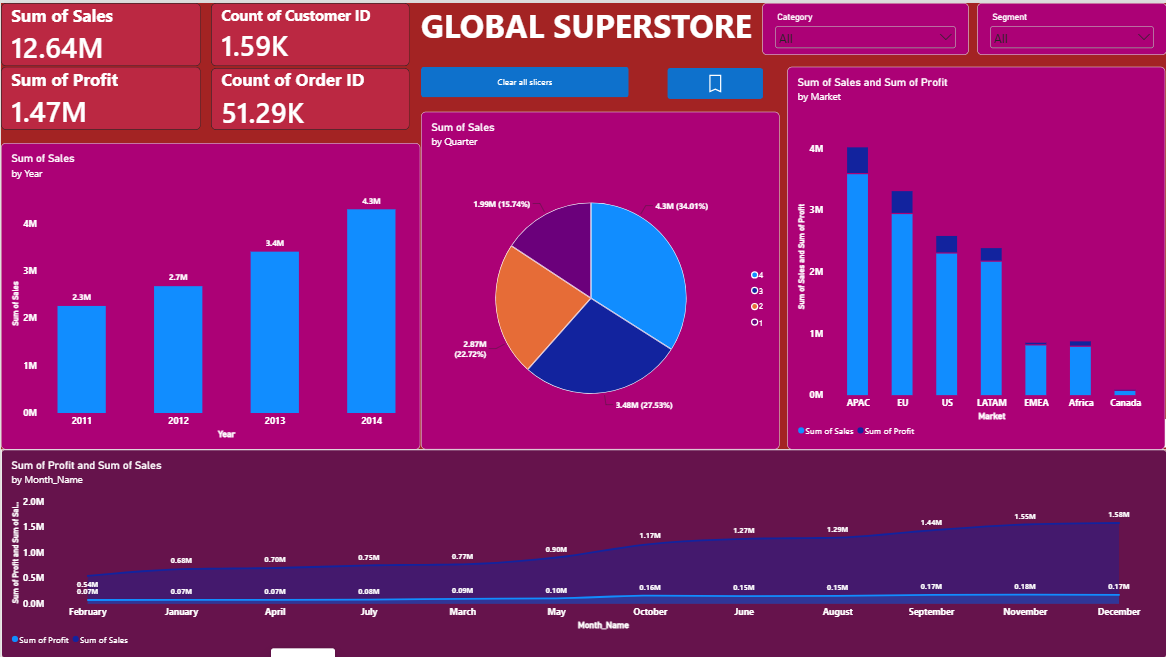

The dashboard page shown, as its layout file describes it:
{"tool":"powerbi","page":{"name":"Page 1","canvas":[1920,1080],"ordinal":0},"visuals":[{"type":"textbox","box":[691.6,0,561.9,80.3],"z":0},{"type":"cardVisual","fields":{"Data":["Sum(Sheet1.Sales)"]},"box":[0,0,329.3,104.8],"z":1000},{"type":"cardVisual","fields":{"Data":["Sum(Sheet1.Profit)"]},"box":[0,104.8,329.3,104.8],"z":2000},{"type":"cardVisual","fields":{"Data":["Count(Sheet1.Customer ID)"]},"box":[346.4,0,327.1,104.8],"z":3000},{"type":"cardVisual","fields":{"Data":["CountNonNull(Sheet1.Order ID)"]},"box":[346.4,106.9,327.1,102.6],"z":4000},{"type":"clusteredColumnChart","fields":{"Category":["Sheet1.Year"],"Y":["Sum(Sheet1.Sales)"]},"box":[0,230.9,690.6,504.6],"z":5000},{"type":"areaChart","fields":{"Category":["Sheet1.Month_Name"],"Y":["Sum(Sheet1.Profit)","Sum(Sheet1.Sales)"]},"box":[0,735.5,1920,344.2],"z":6000},{"type":"lineStackedColumnComboChart","fields":{"Category":["Sheet1.Market"],"Y":["Sum(Sheet1.Sales)","Sum(Sheet1.Profit)"]},"box":[1295.7,104.8,622.2,630.7],"z":7000},{"type":"pieChart","fields":{"Category":["Sheet1.Quarter"],"Y":["Sum(Sheet1.Sales)"]},"box":[690.6,179.6,590.1,555.9],"z":8000},{"type":"slicer","fields":{"Values":["Sheet1.Category"]},"box":[1252.9,0,340,85.5],"z":9000},{"type":"slicer","fields":{"Values":["Sheet1.Segment"]},"box":[1607.8,0,312.2,85.5],"z":10000},{"type":"actionButton","box":[691.3,105,342,50.7],"z":11000},{"type":"actionButton","box":[1096.7,106.8,158,50.9],"z":12000}]}

Visuals, with their boxes in screenshot pixels (x1, y1, x2, y2), scaled from the page's 1920x1080 canvas onto the 1166x657 screenshot:
textbox: <bbox>420, 0, 761, 49</bbox>
cardVisual - Sum(Sheet1.Sales): <bbox>0, 0, 200, 64</bbox>
cardVisual - Sum(Sheet1.Profit): <bbox>0, 64, 200, 128</bbox>
cardVisual - Count(Sheet1.Customer ID): <bbox>210, 0, 409, 64</bbox>
cardVisual - CountNonNull(Sheet1.Order ID): <bbox>210, 65, 409, 127</bbox>
clusteredColumnChart - Sheet1.Year x Sum(Sheet1.Sales): <bbox>0, 140, 419, 447</bbox>
areaChart - Sheet1.Month_Name x Sum(Sheet1.Profit): <bbox>0, 447, 1165, 656</bbox>
lineStackedColumnComboChart - Sheet1.Market x Sum(Sheet1.Sales): <bbox>787, 64, 1165, 447</bbox>
pieChart - Sheet1.Quarter x Sum(Sheet1.Sales): <bbox>419, 109, 778, 447</bbox>
slicer - Sheet1.Category: <bbox>761, 0, 967, 52</bbox>
slicer - Sheet1.Segment: <bbox>976, 0, 1165, 52</bbox>
actionButton: <bbox>420, 64, 628, 95</bbox>
actionButton: <bbox>666, 65, 762, 96</bbox>
